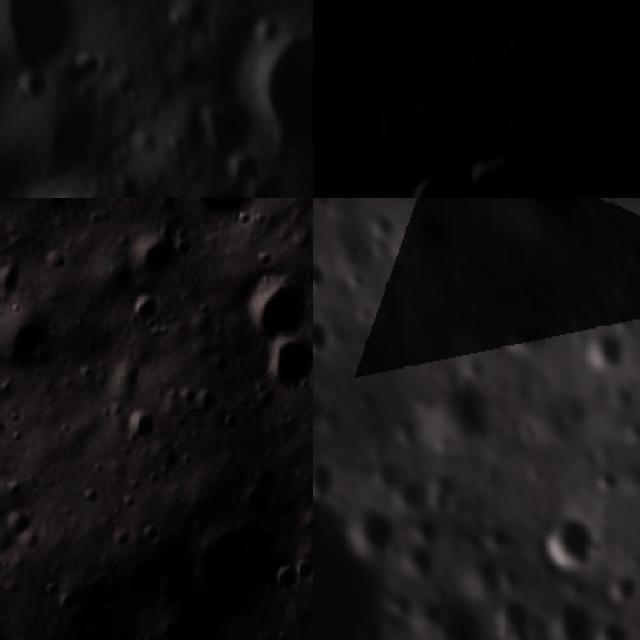crater: (176, 504, 298, 630), (249, 17, 313, 169), (221, 259, 313, 362), (0, 0, 99, 81), (0, 288, 73, 387), (37, 94, 112, 190), (248, 319, 313, 413), (157, 198, 302, 239), (545, 508, 611, 577), (193, 103, 259, 167), (126, 220, 185, 286), (575, 326, 634, 383), (46, 604, 135, 640), (348, 502, 402, 560), (313, 91, 340, 195), (35, 573, 90, 621), (126, 279, 172, 335), (524, 198, 593, 235), (0, 492, 44, 549), (461, 148, 510, 198), (489, 594, 538, 640), (547, 598, 598, 640), (266, 556, 308, 606), (171, 0, 219, 43), (222, 154, 273, 194), (121, 399, 161, 445), (187, 380, 226, 425), (313, 311, 343, 365), (600, 566, 640, 606), (374, 450, 411, 492), (313, 456, 344, 499), (532, 272, 564, 310), (579, 198, 613, 232), (401, 182, 452, 198), (293, 547, 313, 587), (313, 256, 331, 299), (224, 0, 260, 19)
